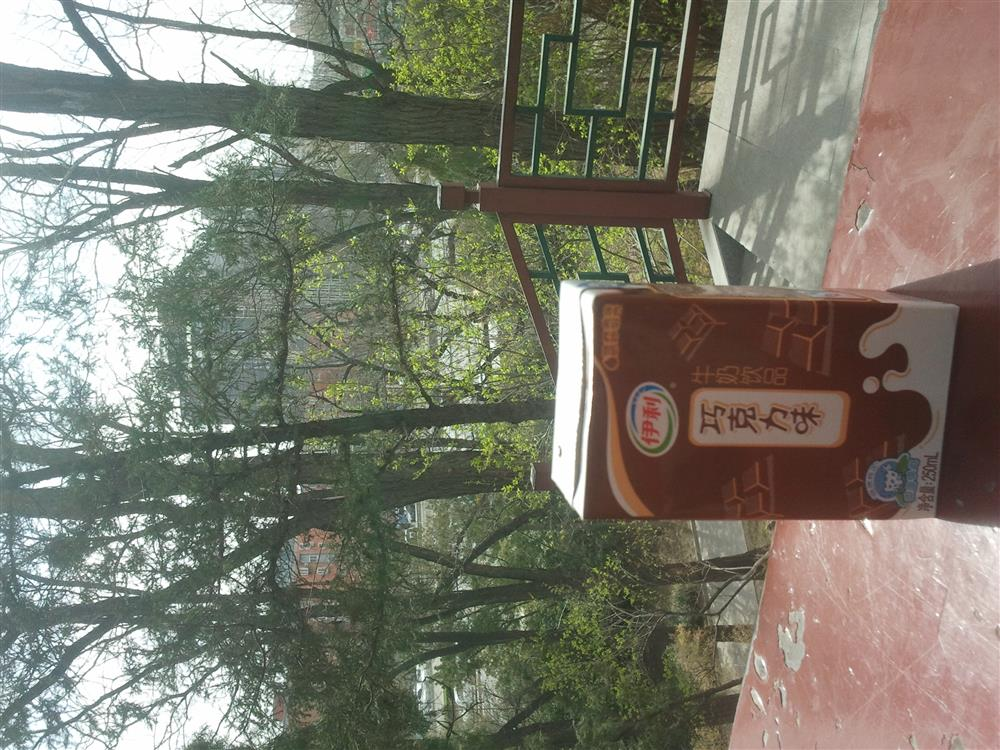Yeale: (575, 288, 958, 524)
